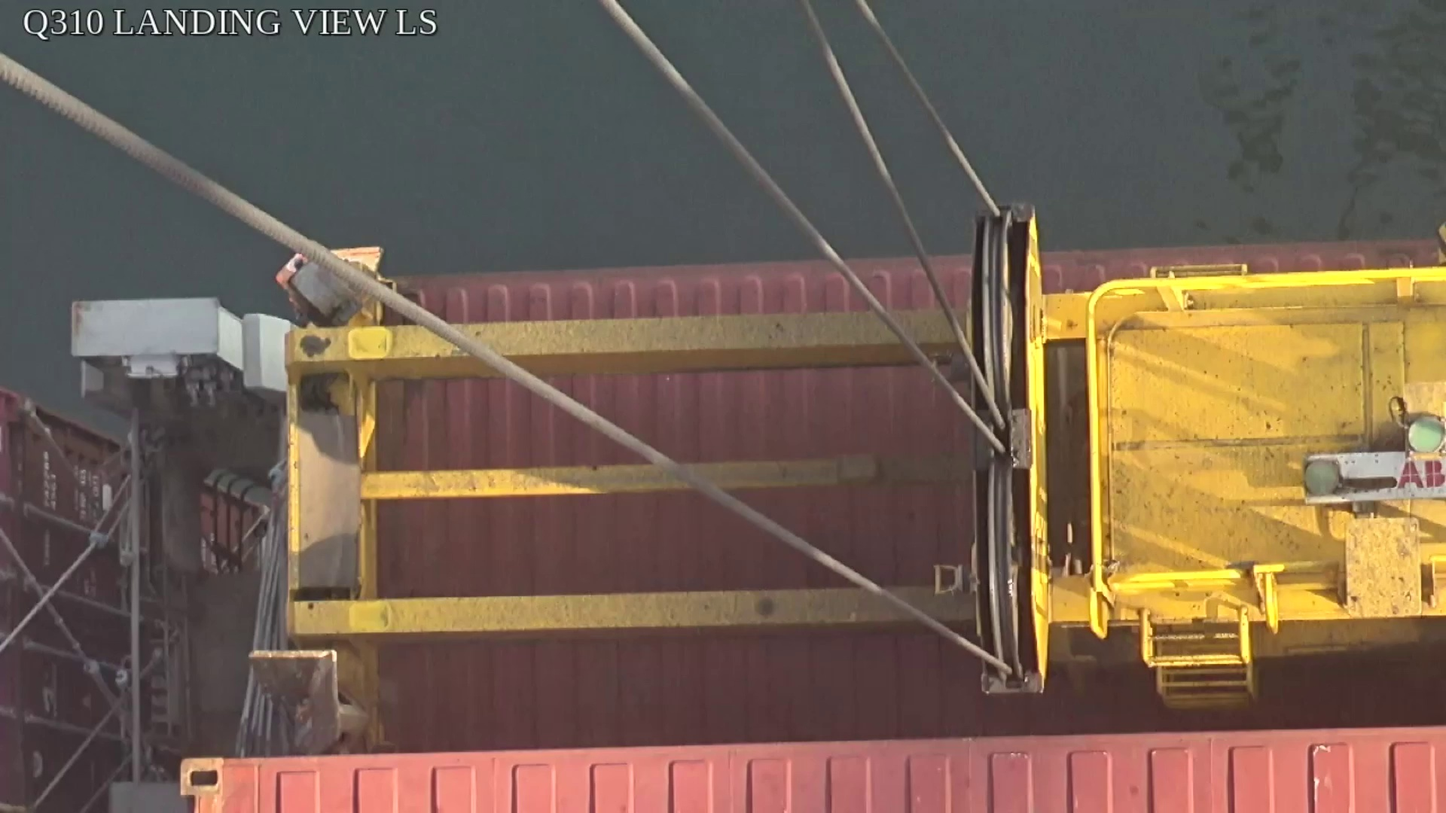left_gear: (972, 206, 1051, 690)
